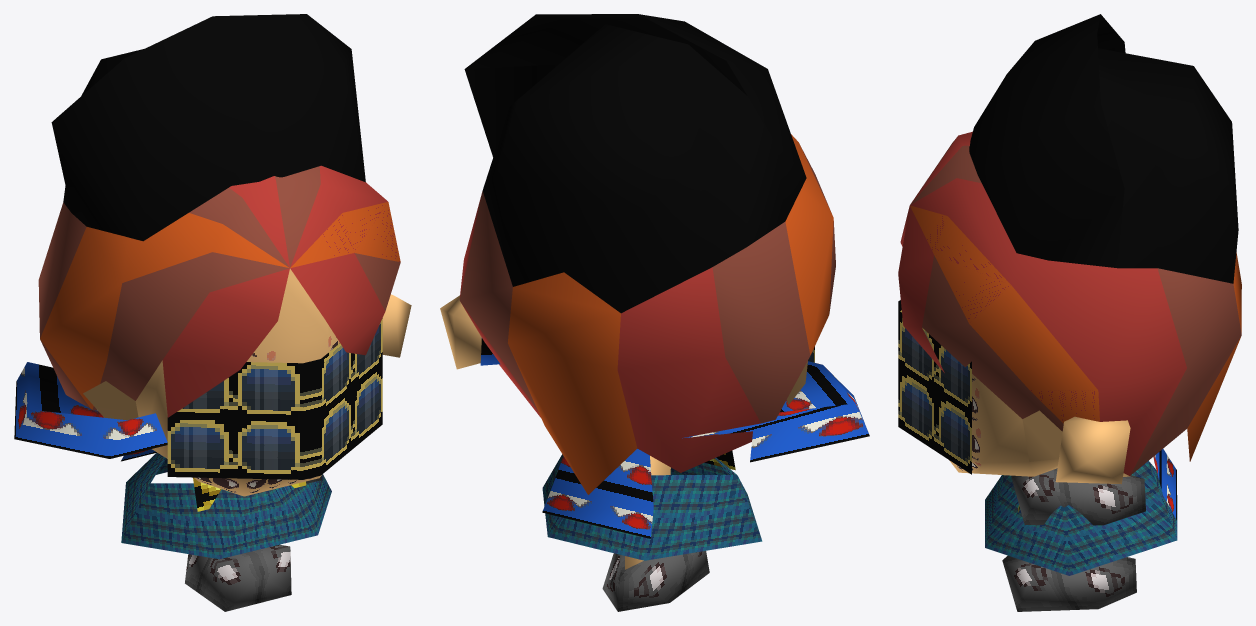
The picture shows the model from 3 angles, left to right: view 1: azimuth 30°, elevation 25°; view 2: azimuth 150°, elevation 25°; view 3: azimuth 270°, elevation 25°; orthographic projection. The views are drawn at different scales.
Parts seen in each view (by area): view 1: pmd04_14_03; view 2: pmd04_14_03; view 3: pmd04_14_03.
Part boxes in pixels (x1,y1,x2,y2): pmd04_14_03: [14, 14, 411, 611]; pmd04_14_03: [440, 14, 869, 611]; pmd04_14_03: [898, 14, 1241, 611].
Size of the model in its own units: 1.23 by 1.62 by 0.9033.
9 materials, 9 textured.
